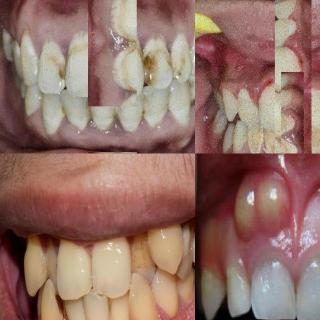Gum Swelling: (230, 75, 273, 105)
calculus: (135, 93, 151, 131), (83, 92, 97, 130), (246, 126, 264, 154), (279, 110, 297, 138), (285, 15, 301, 43), (281, 140, 299, 154), (109, 103, 121, 121), (310, 134, 320, 154), (187, 88, 195, 112), (266, 130, 274, 154)
maligned: (148, 211, 184, 278), (130, 225, 156, 289), (127, 273, 161, 320), (40, 242, 68, 296), (36, 279, 66, 320), (80, 288, 108, 320)
plaque: (256, 86, 276, 120), (236, 90, 258, 118), (311, 86, 320, 127)
stains: (127, 232, 167, 274), (57, 101, 69, 127)
